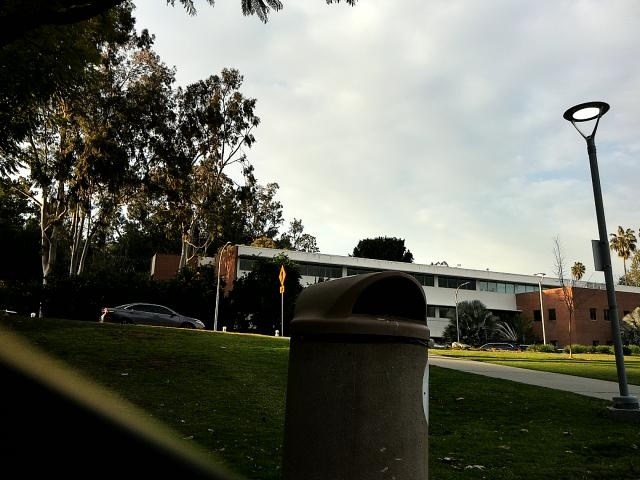trashcan: (284, 270, 436, 480)
